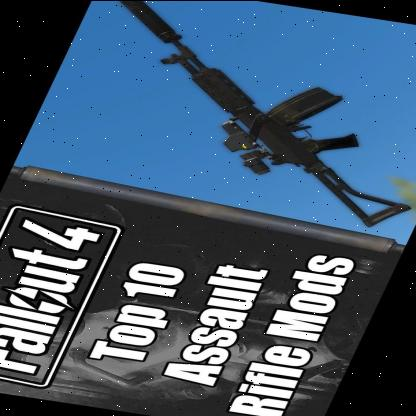rifle: (27, 0, 416, 231)
